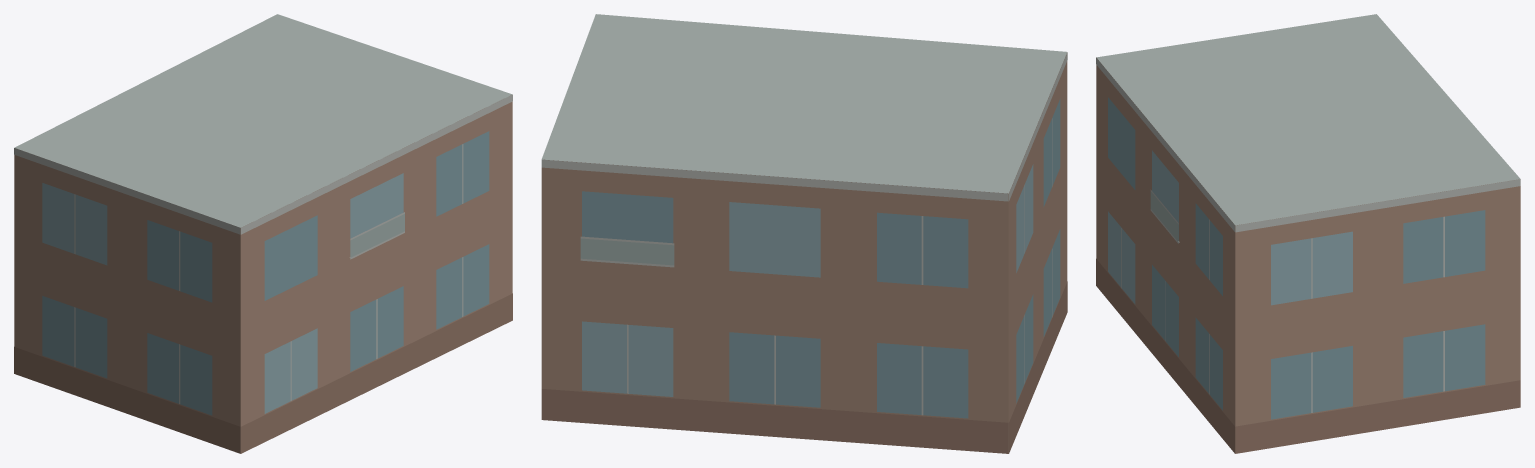
File: survey-upis-32852128.glb
3 renders of one model, left to right at view 1: azimuth 30°, elevation 25°; view 2: azimuth 150°, elevation 25°; view 3: azimuth 270°, elevation 25°, orthographic. The views are drawn at different scales.
Parts seen in each view (by area): view 1: survey-upis-32852128.tmp; view 2: survey-upis-32852128.tmp; view 3: survey-upis-32852128.tmp.
Part boxes in pixels (x1,y1,x2,y2): survey-upis-32852128.tmp: [14, 14, 512, 453]; survey-upis-32852128.tmp: [541, 14, 1067, 453]; survey-upis-32852128.tmp: [1096, 14, 1520, 453].
Size of the model in its own units: 15.68 by 7.9 by 13.31.
